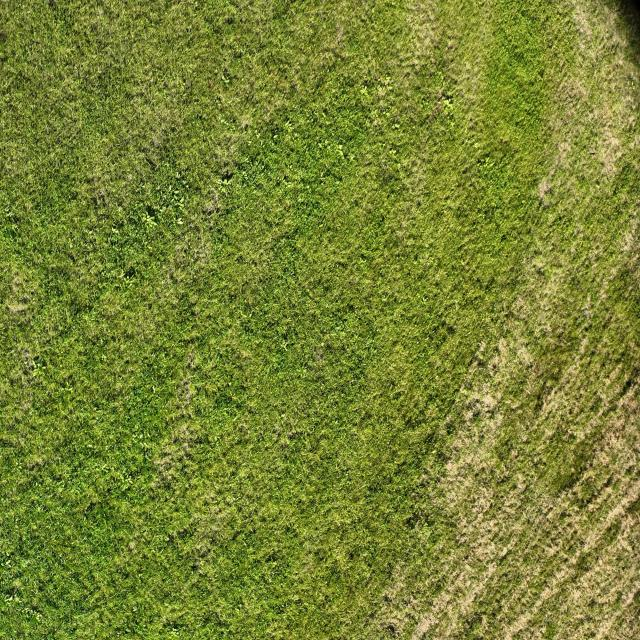rumex: (127, 91, 187, 171), (96, 580, 172, 640), (587, 474, 640, 558), (394, 369, 453, 443), (186, 169, 232, 240), (174, 224, 220, 282), (606, 216, 640, 286), (158, 419, 201, 473), (407, 603, 444, 638), (318, 133, 351, 170), (122, 420, 154, 453), (270, 417, 306, 446), (527, 384, 552, 422), (161, 184, 187, 218), (462, 395, 490, 424), (401, 508, 430, 535), (444, 456, 470, 482), (376, 69, 396, 100), (5, 300, 32, 322), (554, 138, 574, 166), (317, 136, 335, 158), (216, 180, 234, 200), (476, 152, 496, 170), (91, 188, 108, 208), (31, 362, 48, 381), (328, 47, 347, 64), (464, 612, 480, 631), (313, 346, 327, 367), (238, 113, 253, 132), (625, 73, 639, 93), (621, 376, 635, 396), (203, 186, 220, 202), (182, 381, 192, 408), (184, 352, 196, 374), (541, 624, 558, 639), (116, 470, 130, 488), (442, 97, 456, 115), (334, 22, 344, 45), (419, 95, 431, 112), (220, 171, 234, 185), (197, 542, 209, 558), (440, 92, 455, 104), (143, 219, 154, 235), (144, 157, 157, 170), (220, 160, 232, 174), (178, 525, 190, 539), (581, 306, 593, 320), (145, 205, 156, 218), (411, 57, 422, 70), (63, 382, 74, 394), (9, 213, 20, 225), (283, 120, 293, 133), (436, 89, 446, 102), (106, 47, 113, 65), (349, 376, 360, 387), (220, 73, 230, 85), (147, 476, 157, 488), (291, 592, 301, 604), (446, 324, 456, 336), (127, 540, 137, 552), (146, 214, 156, 225), (110, 229, 120, 240), (124, 274, 134, 285), (337, 259, 348, 269), (536, 265, 546, 276), (21, 294, 31, 304), (224, 16, 234, 26), (234, 604, 242, 616), (539, 623, 547, 635), (0, 30, 7, 43), (116, 271, 125, 281), (237, 310, 246, 320), (5, 595, 15, 604), (500, 232, 509, 242), (274, 178, 282, 189), (215, 94, 223, 105), (36, 612, 44, 623), (502, 305, 510, 316), (284, 181, 293, 190), (388, 148, 397, 157), (100, 463, 109, 472), (359, 253, 368, 262), (48, 1, 57, 10), (472, 141, 482, 149), (339, 331, 347, 341), (232, 415, 240, 425), (161, 534, 169, 544), (190, 308, 198, 318), (589, 347, 597, 357), (361, 85, 368, 96), (300, 367, 307, 378), (280, 340, 288, 349), (5, 560, 13, 569), (363, 159, 371, 168), (226, 380, 233, 390), (402, 72, 409, 82), (538, 69, 544, 80), (318, 10, 324, 21), (392, 123, 400, 131), (588, 146, 596, 154), (33, 354, 40, 363), (269, 628, 278, 635), (273, 132, 279, 142), (151, 384, 157, 394), (464, 138, 471, 146), (422, 295, 429, 303), (86, 442, 93, 450), (248, 310, 254, 319), (96, 66, 102, 74), (594, 179, 600, 187), (208, 81, 214, 89), (558, 205, 562, 216), (317, 142, 323, 149)
